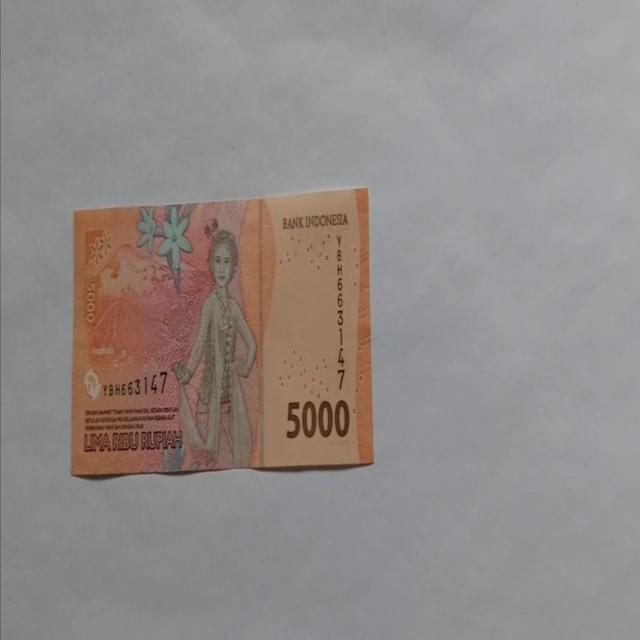lima ribu rupiah: (70, 186, 374, 477), (170, 228, 258, 472)
